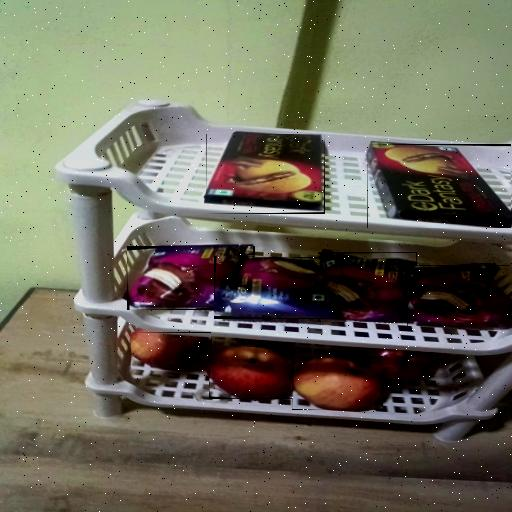Apple: (292, 356, 383, 410), (209, 346, 294, 399), (132, 332, 212, 370)
Choco Fills: (367, 144, 511, 228), (206, 134, 325, 214)
Choco Pie: (127, 246, 255, 310), (214, 257, 336, 319), (318, 252, 417, 322), (407, 265, 510, 326)
